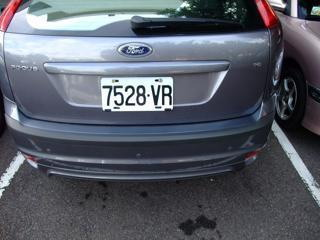plate: (99, 77, 174, 111)
